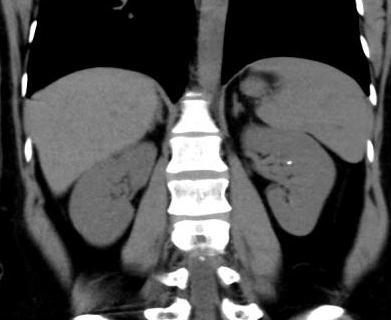Tas_Var: (284, 159, 292, 166)
